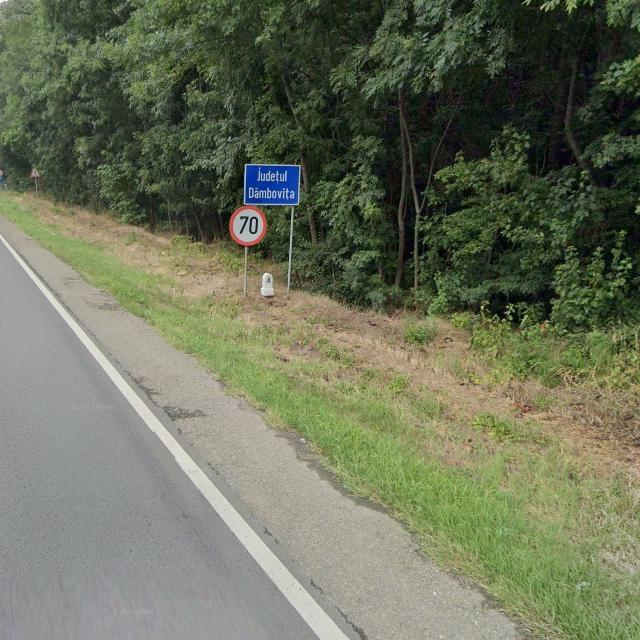forb_speed_over_70: (229, 205, 268, 246)
